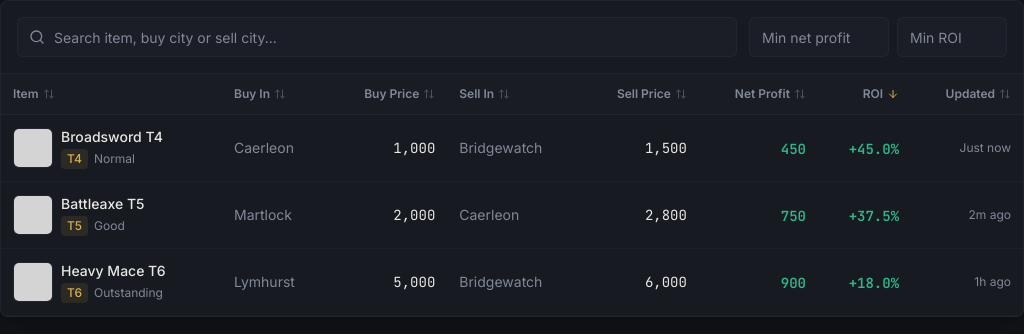
it: ArbitrageTable › deve filtrar por termo de busca
This screenshot has width=1024, height=334.
Type "axe" into the field with placeholder "Search item, buy city or sell city..." at [377, 37], box [17, 17, 737, 57]
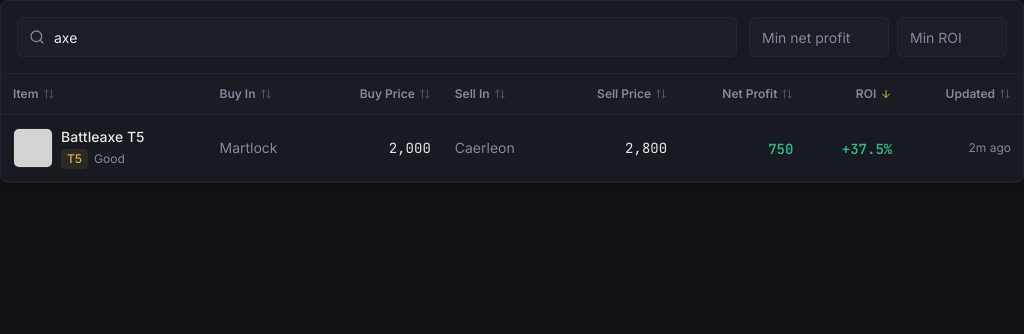
Check: the text "Battleaxe T5" is shown, box [61, 127, 144, 147]
Check: the text "Broadsword T4" is gone
